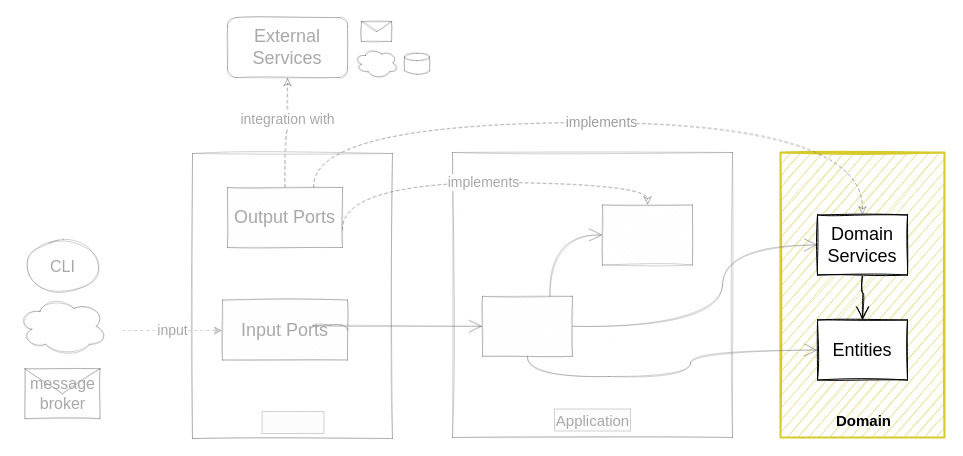
This 963x456 diagram has some shape labels left out. The shapes that lost their labels are listed below. From the top down, each one's centre as x and y in pixels, then its label:
At (647,234): "App Services".
At (62,325): "http request".
At (527,325): "Use Cases".
At (292,422): "Adapters".
